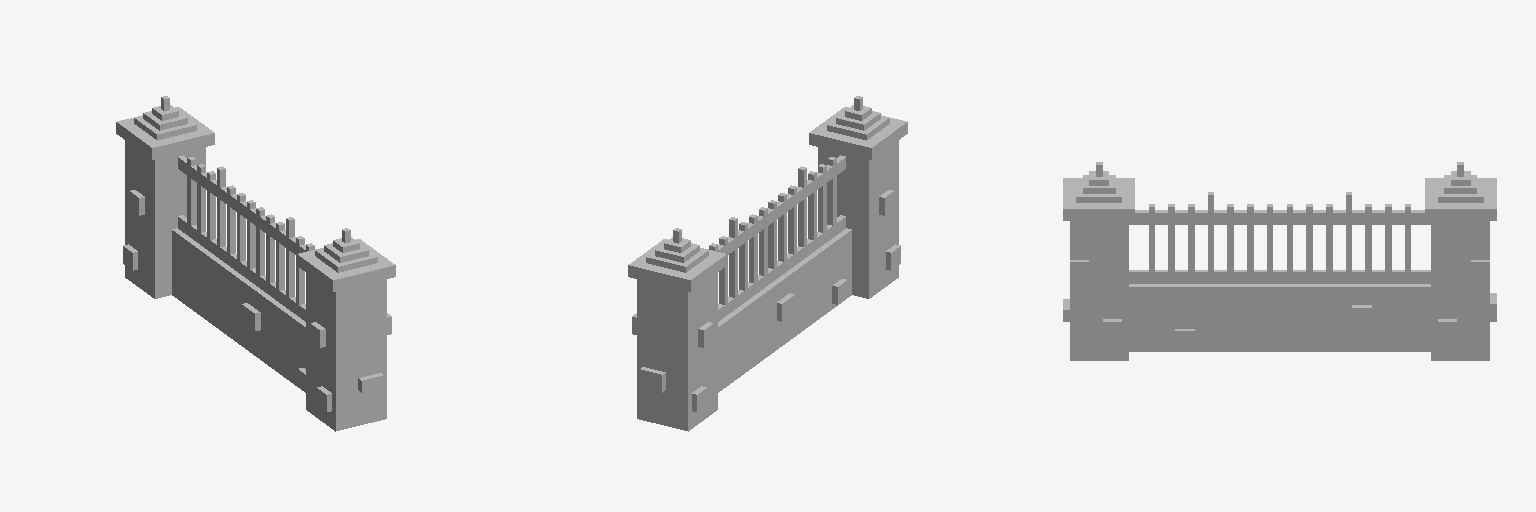
Rendered from Fence_2.obj.
3 views of the same model, side by side, from view 1: azimuth 30°, elevation 25°; view 2: azimuth 150°, elevation 25°; view 3: azimuth 270°, elevation 25° (orthographic).
Parts seen in each view (by area): view 1: object 1; view 2: object 1; view 3: object 1.
Part boxes in pixels (x1,y1,x2,y2): object 1: (116, 96, 395, 431); object 1: (628, 96, 907, 431); object 1: (1063, 162, 1496, 360).
Bounding box in the file's own units: 1.1 × 3.1 × 6.6.